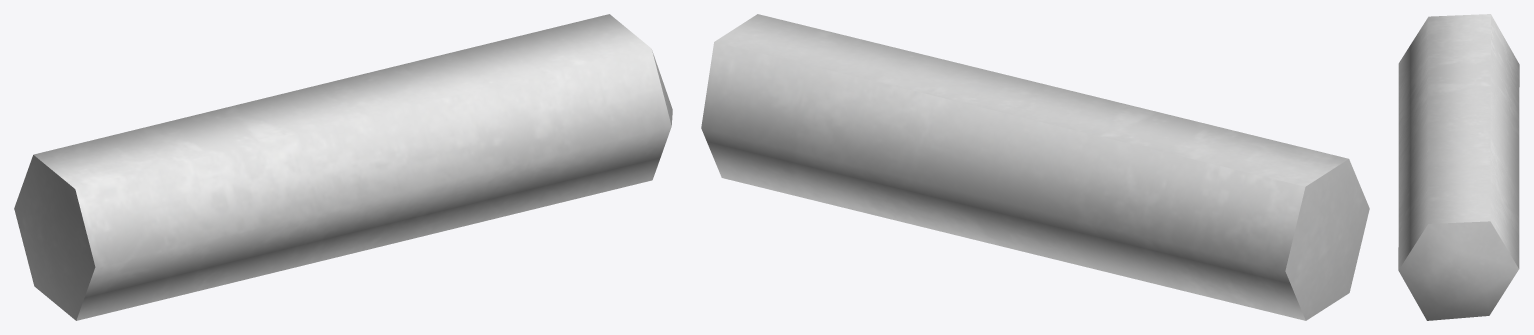
The model's file is SM_Chalk_02a.fbx.
3 renders of one model, left to right at view 1: azimuth 30°, elevation 25°; view 2: azimuth 150°, elevation 25°; view 3: azimuth 270°, elevation 25°, orthographic. The views are drawn at different scales.
Parts seen in each view (by area): view 1: SM_Chalk_02a_LOD0; view 2: SM_Chalk_02a_LOD0; view 3: SM_Chalk_02a_LOD0.
Boxes of the visible parts, x1,y1,x2,y2 form: SM_Chalk_02a_LOD0: (14,14,672,320); SM_Chalk_02a_LOD0: (701,14,1369,320); SM_Chalk_02a_LOD0: (1398,14,1519,320).
Bounding box in the file's own units: 6.66 × 1.57 × 1.43.
